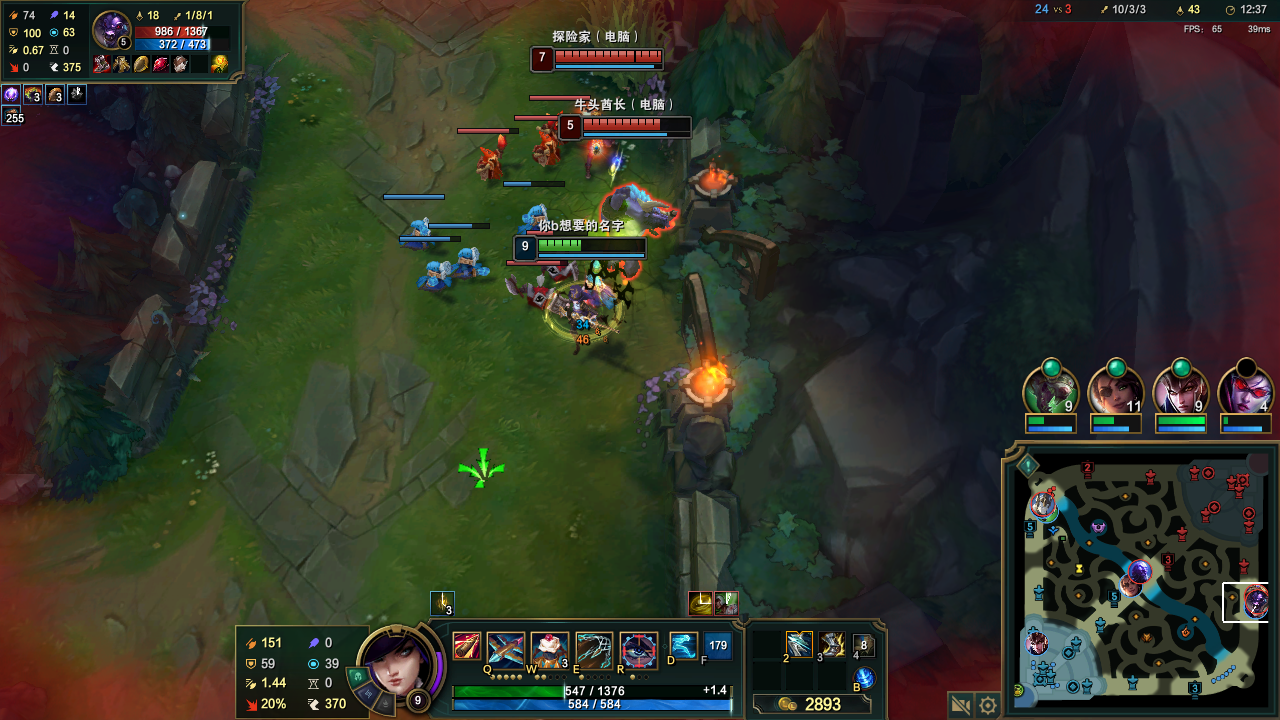DFXB: (474, 138, 510, 182), (514, 274, 556, 310), (527, 129, 557, 167), (541, 263, 574, 279), (546, 108, 560, 131)
DFYX: (552, 51, 665, 66), (578, 119, 679, 133)
WFXB: (455, 244, 493, 284), (418, 259, 461, 294), (514, 198, 547, 225), (405, 220, 437, 247)
